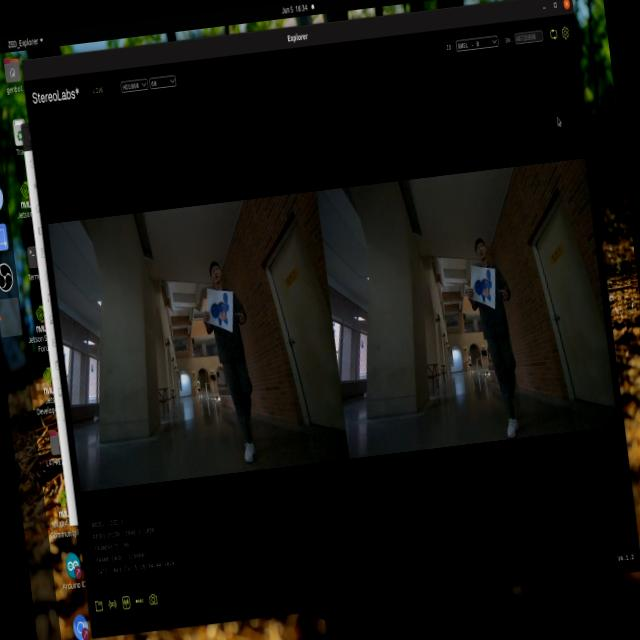blue: (466, 263, 504, 315), (202, 288, 237, 331)
